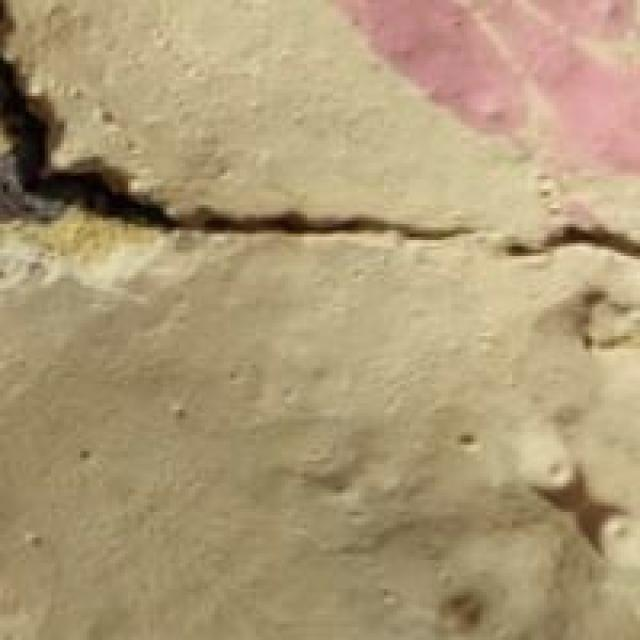SurfaceCrack: (0, 62, 638, 300)
